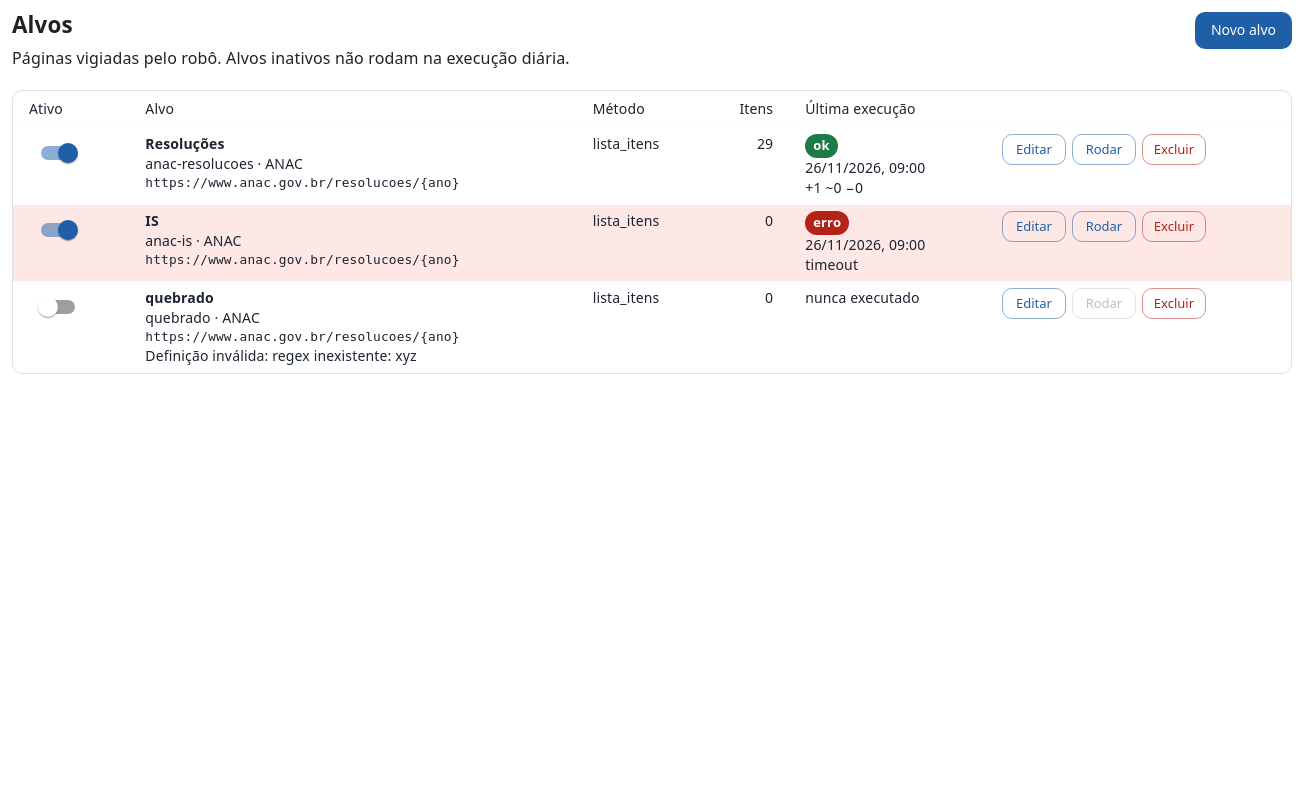
AlvosPage › rodar um alvo
The image size is (1304, 812).
Click the button with aria-label "Rodar anac-is": (1104, 226) [1072,211,1136,242]
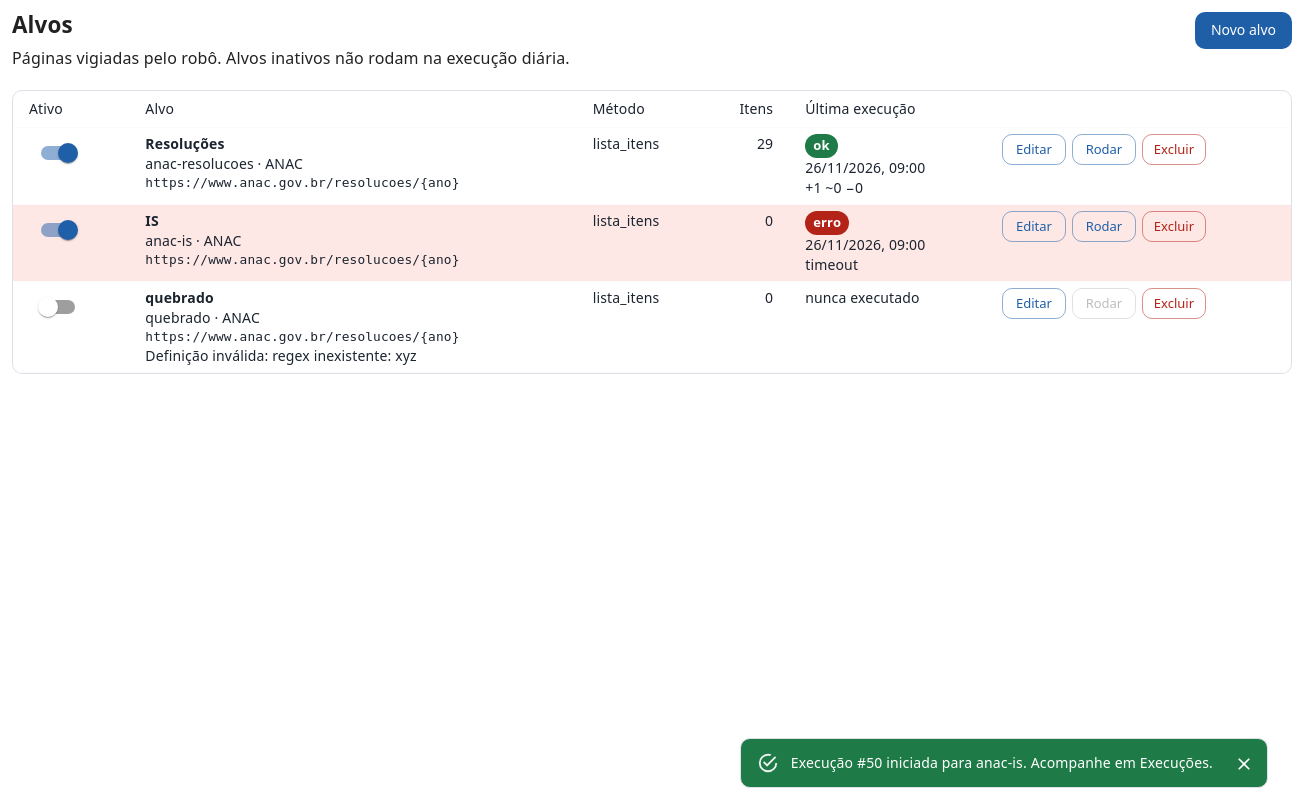
Check: the text "Execução #50 iniciada para anac-is. Acompanhe em Execuções." is shown, box [791,753,1213,772]
